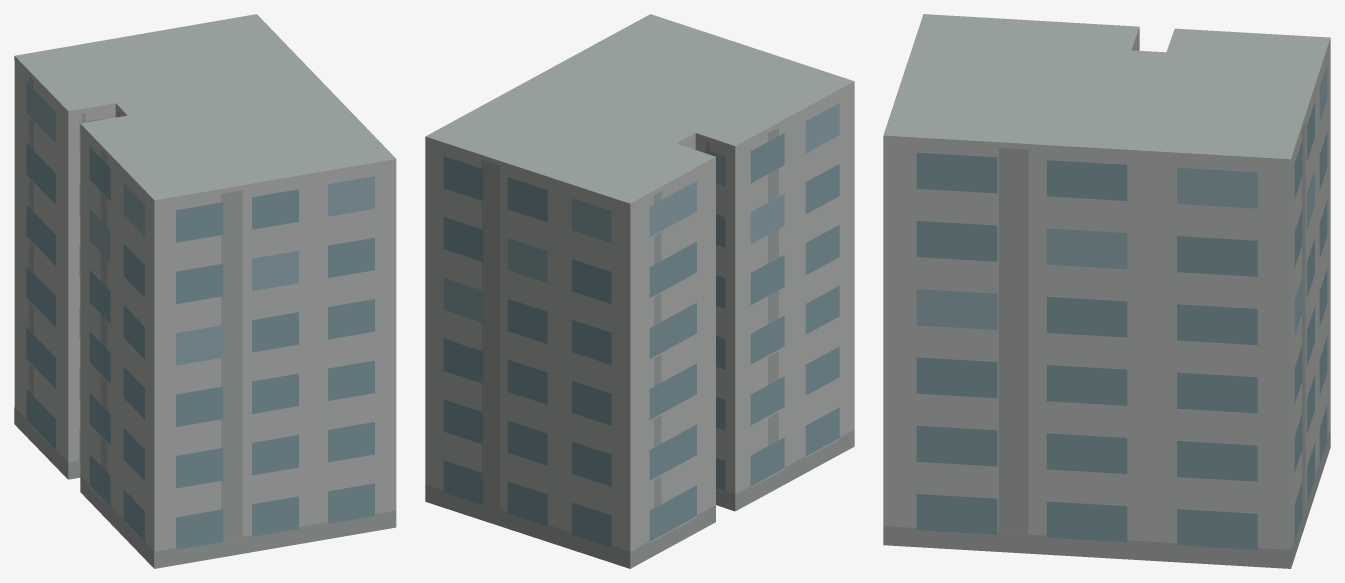
File: survey-upis-32634382.glb
3 views of the same model, side by side, from view 1: azimuth 30°, elevation 25°; view 2: azimuth 150°, elevation 25°; view 3: azimuth 270°, elevation 25° (orthographic). The views are drawn at different scales.
Parts seen in each view (by area): view 1: survey-upis-32634382.tmp; view 2: survey-upis-32634382.tmp; view 3: survey-upis-32634382.tmp.
Boxes of the visible parts, left/top/right/bottom form: survey-upis-32634382.tmp: left=14, top=14, right=396, bottom=568; survey-upis-32634382.tmp: left=425, top=14, right=854, bottom=568; survey-upis-32634382.tmp: left=883, top=14, right=1330, bottom=568.
Size of the model in its own units: 13.93 by 18.3 by 18.12.
